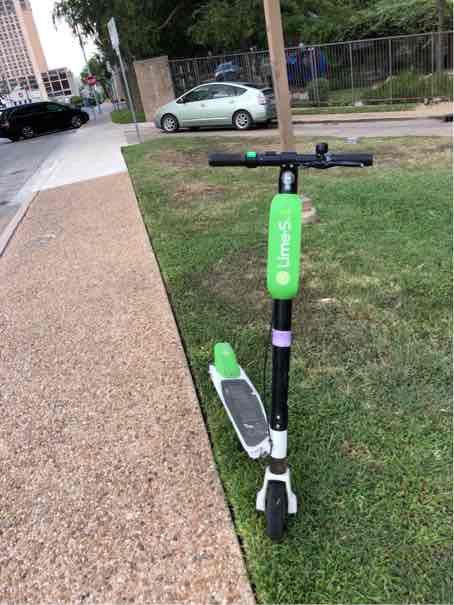scooter: (180, 136, 381, 544)
